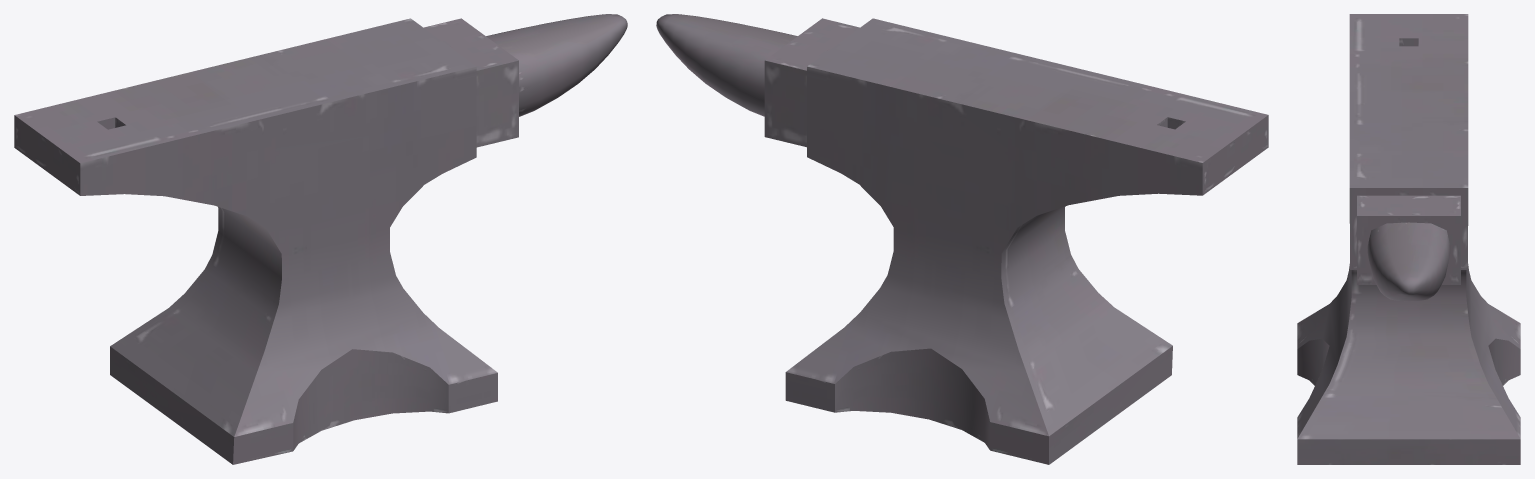
The model's file is anvil_out.glb.
The picture shows the model from 3 angles, left to right: view 1: azimuth 30°, elevation 25°; view 2: azimuth 150°, elevation 25°; view 3: azimuth 270°, elevation 25°; orthographic projection. The views are drawn at different scales.
Parts seen in each view (by area): view 1: Anvil; view 2: Anvil; view 3: Anvil.
Boxes of the visible parts, x1=… form: Anvil: x1=14, y1=14, x2=627, y2=464; Anvil: x1=656, y1=14, x2=1268, y2=464; Anvil: x1=1297, y1=14, x2=1520, y2=464.
Size of the model in its own units: 1.08 by 0.5561 by 0.4015.
Materials: 1 (1 with a texture image).
